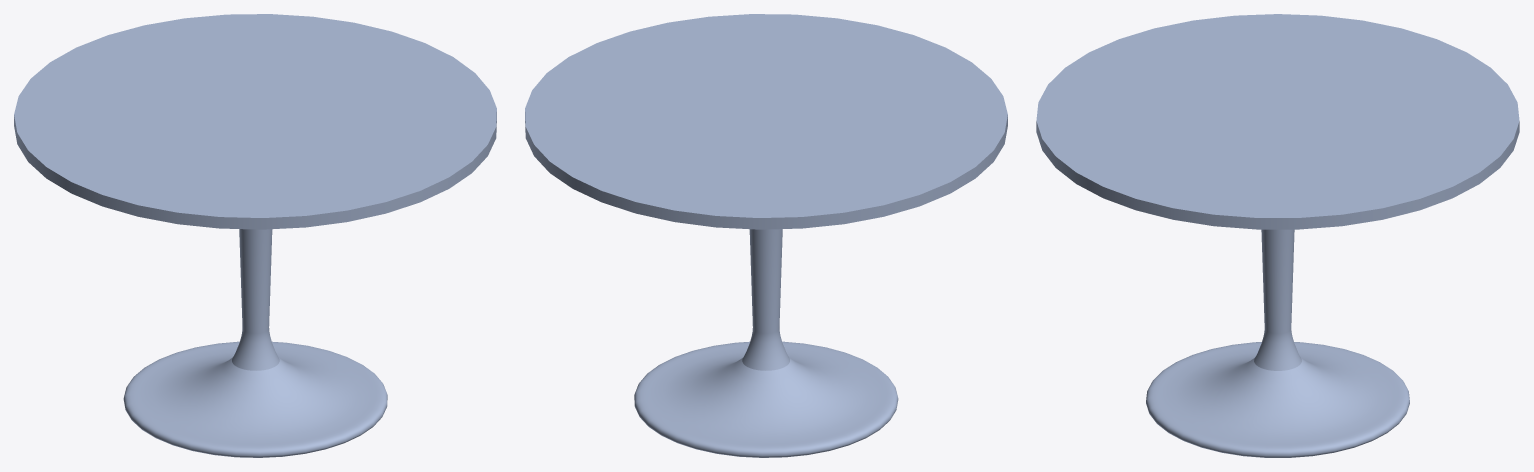
File: round_table.glb
The picture shows the model from 3 angles, left to right: view 1: azimuth 30°, elevation 25°; view 2: azimuth 150°, elevation 25°; view 3: azimuth 270°, elevation 25°; orthographic projection.
Visible parts, largest first — view 1: DOCKSTA; view 2: DOCKSTA; view 3: DOCKSTA.
Boxes of the visible parts, left/top/right/bottom form: DOCKSTA: left=14, top=14, right=496, bottom=457; DOCKSTA: left=525, top=14, right=1007, bottom=457; DOCKSTA: left=1036, top=14, right=1519, bottom=457.
Bounding box in the file's own units: 1.14 × 0.7494 × 1.14.
1 material, 1 textured.
